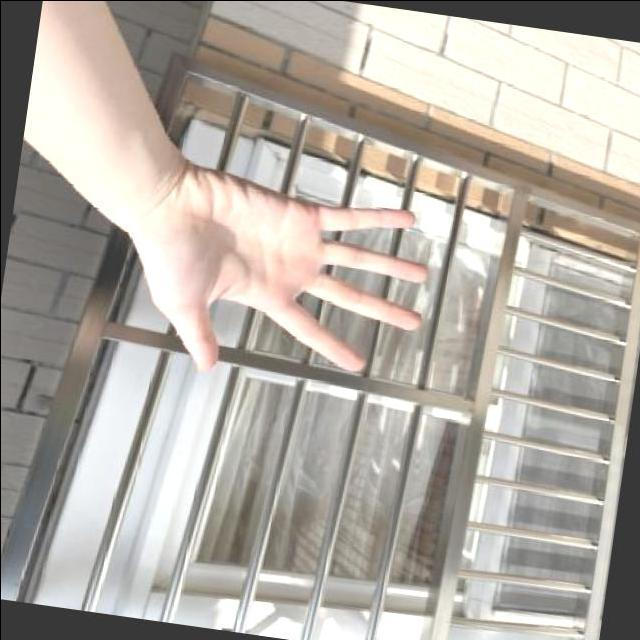hand: (99, 138, 458, 412)
